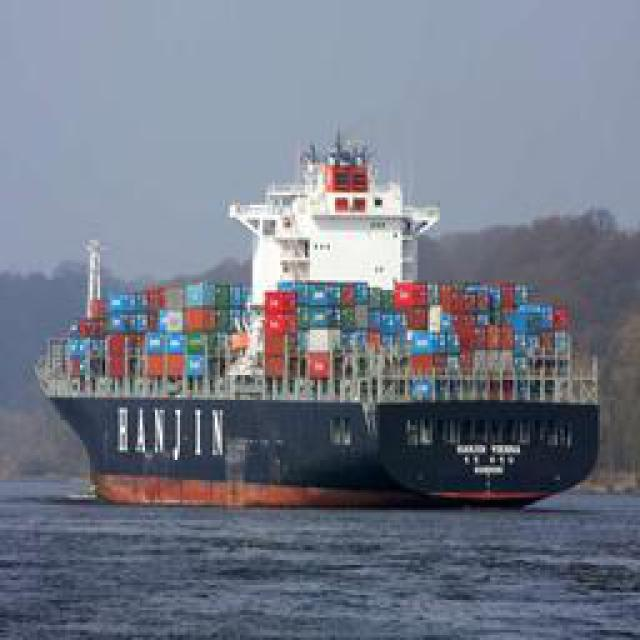Ship: (39, 118, 612, 513)
